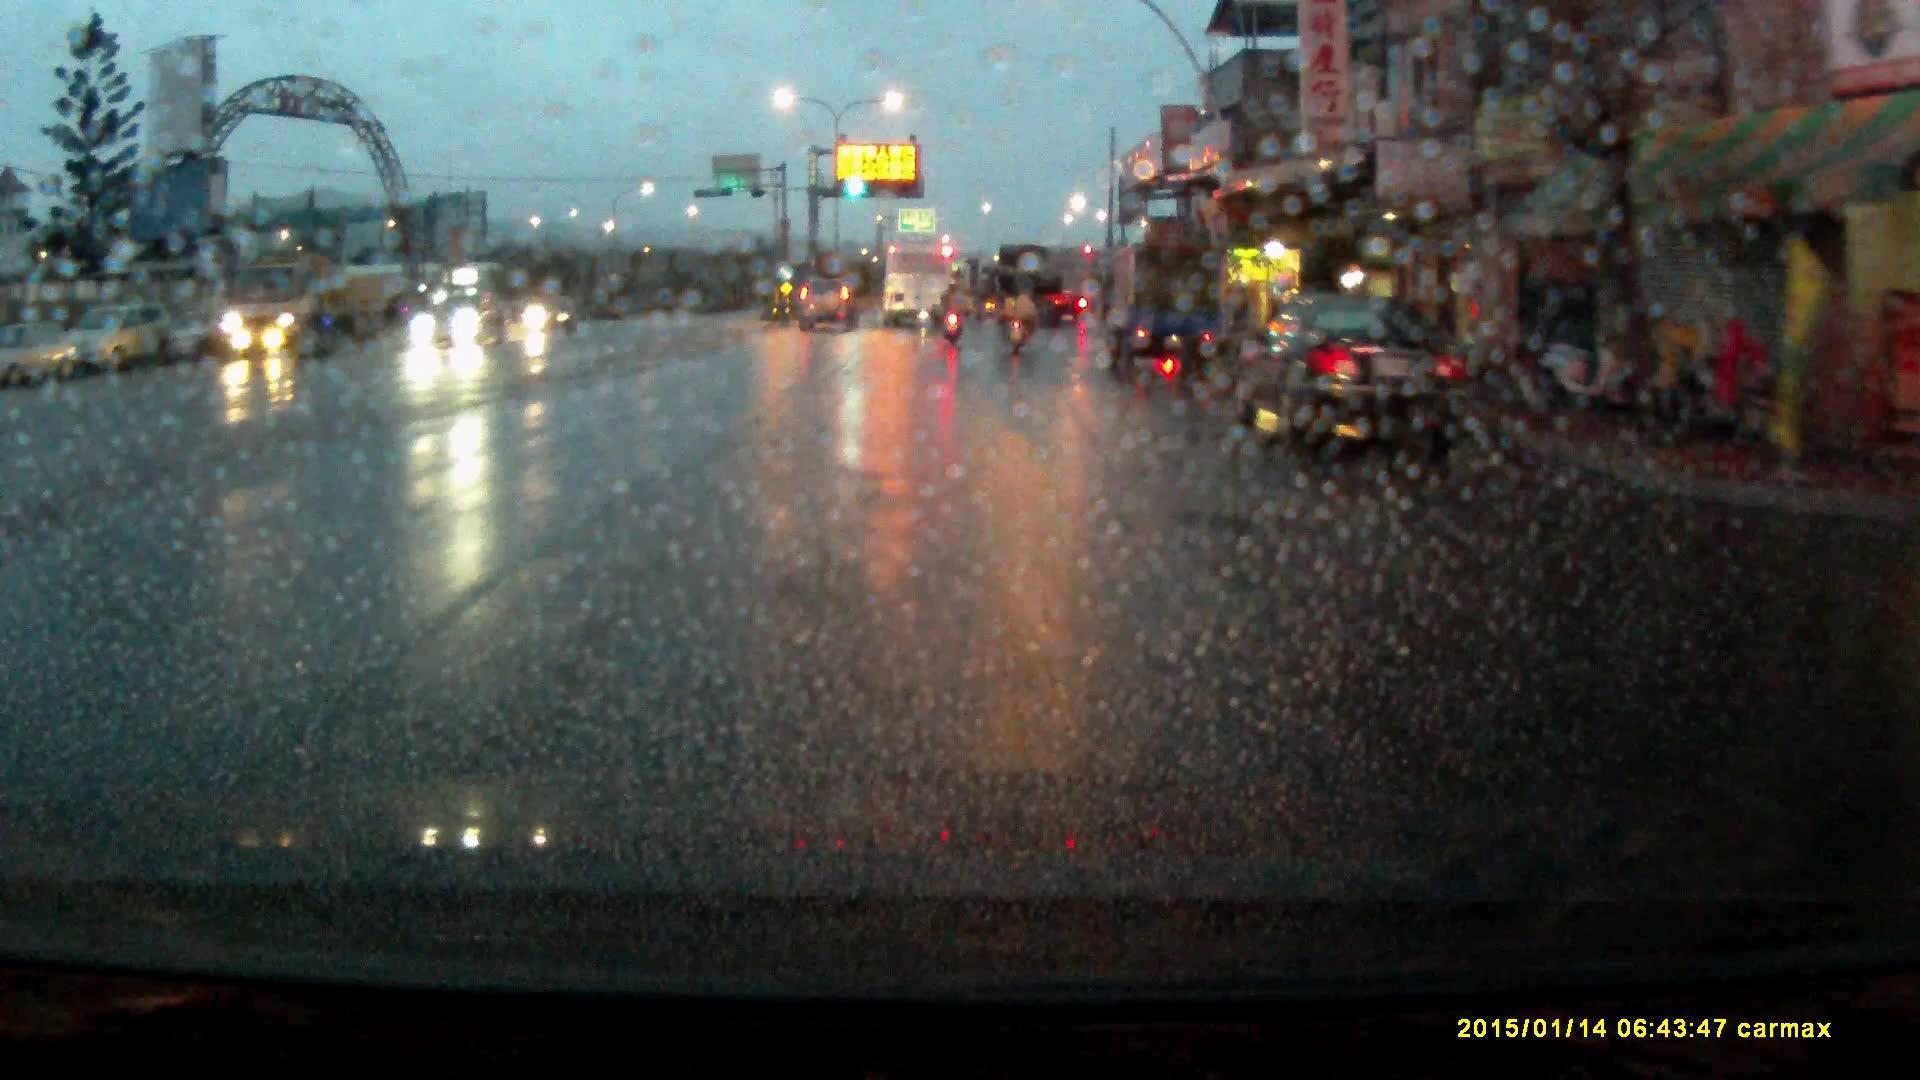rider: (996, 276, 1032, 359), (942, 280, 968, 349)
vehicle: (1235, 296, 1473, 457), (222, 258, 406, 363), (1102, 249, 1226, 372), (60, 308, 162, 381), (997, 245, 1067, 332), (883, 247, 950, 331), (407, 294, 508, 350), (1, 322, 81, 392), (797, 278, 860, 339), (524, 293, 580, 339)
